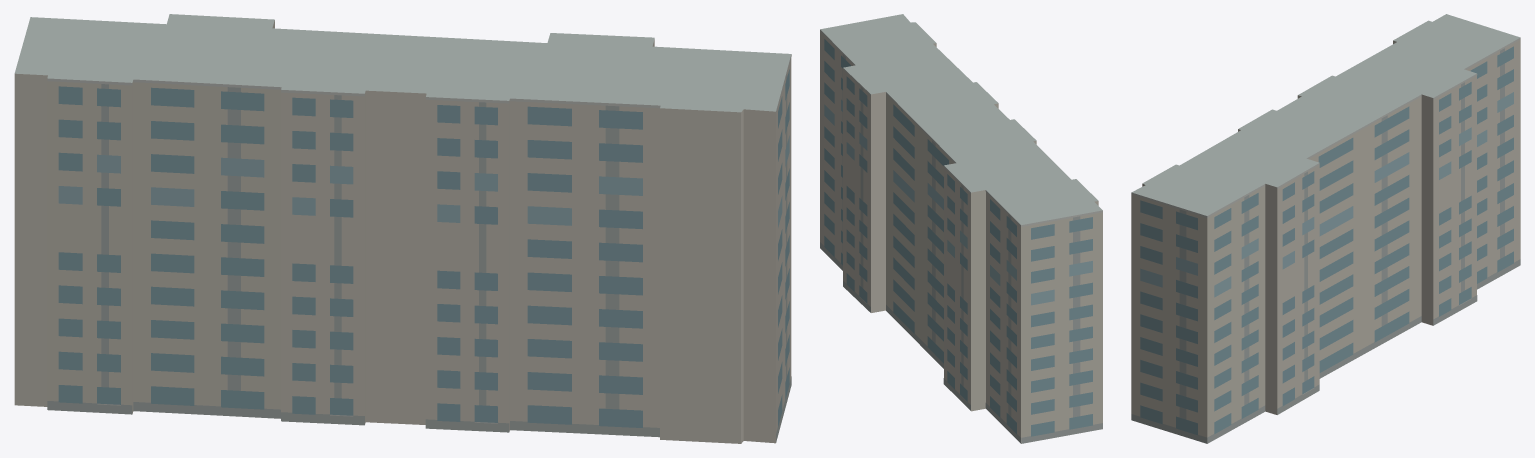
Rendered from residential-9cb85586-8943-40a0-b26d-61491c0e22c7.glb.
The picture shows the model from 3 angles, left to right: view 1: azimuth 30°, elevation 25°; view 2: azimuth 150°, elevation 25°; view 3: azimuth 270°, elevation 25°; orthographic projection. The views are drawn at different scales.
Parts seen in each view (by area): view 1: residential-9cb85586-8943-40a0-b26d-61491c0e22c7.tmp; view 2: residential-9cb85586-8943-40a0-b26d-61491c0e22c7.tmp; view 3: residential-9cb85586-8943-40a0-b26d-61491c0e22c7.tmp.
Boxes of the visible parts, left/top/right/bottom form: residential-9cb85586-8943-40a0-b26d-61491c0e22c7.tmp: left=14, top=14, right=791, bottom=443; residential-9cb85586-8943-40a0-b26d-61491c0e22c7.tmp: left=820, top=14, right=1102, bottom=443; residential-9cb85586-8943-40a0-b26d-61491c0e22c7.tmp: left=1131, top=14, right=1520, bottom=443.
Bounding box in the file's own units: 57.09 × 30 × 46.46.
